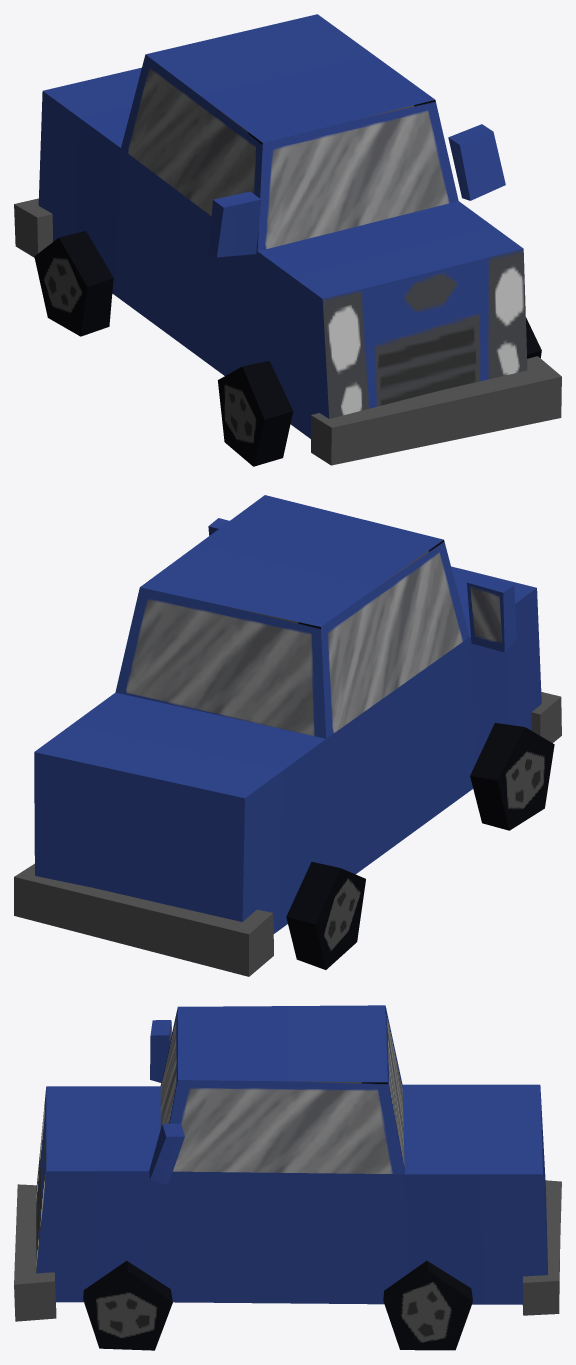
The model's file is Car02.fbx.
The picture shows the model from 3 angles, top to bottom: view 1: azimuth 30°, elevation 25°; view 2: azimuth 150°, elevation 25°; view 3: azimuth 270°, elevation 25°; orthographic projection. The views are drawn at different scales.
Parts seen in each view (by area): view 1: Car2, Cylinder.003, Cylinder.002; view 2: Car2, Cylinder.002, Cylinder.003; view 3: Car2, Cylinder, Cylinder.001.
Part boxes in pixels (left/top/right/bottom): Car2: left=14, top=14, right=561, bottom=465; Cylinder.003: left=34, top=231, right=113, bottom=336; Cylinder.002: left=217, top=360, right=293, bottom=466; Car2: left=14, top=495, right=561, bottom=976; Cylinder.002: left=470, top=722, right=554, bottom=830; Cylinder.003: left=286, top=861, right=365, bottom=969; Car2: left=14, top=1005, right=561, bottom=1321; Cylinder: left=383, top=1260, right=472, bottom=1350; Cylinder.001: left=83, top=1260, right=172, bottom=1350.
Size of the model in its own units: 232 by 218 by 433.
Materials: 1 (1 with a texture image).
